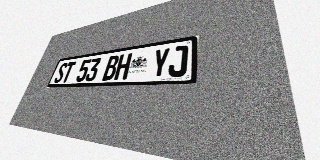3: (84, 58, 102, 81)
5: (75, 59, 92, 82)
B: (102, 55, 120, 81)
H: (114, 53, 132, 80)
J: (167, 45, 189, 77)
S: (53, 62, 69, 83)
T: (61, 61, 76, 83)
Y: (150, 47, 171, 78)
